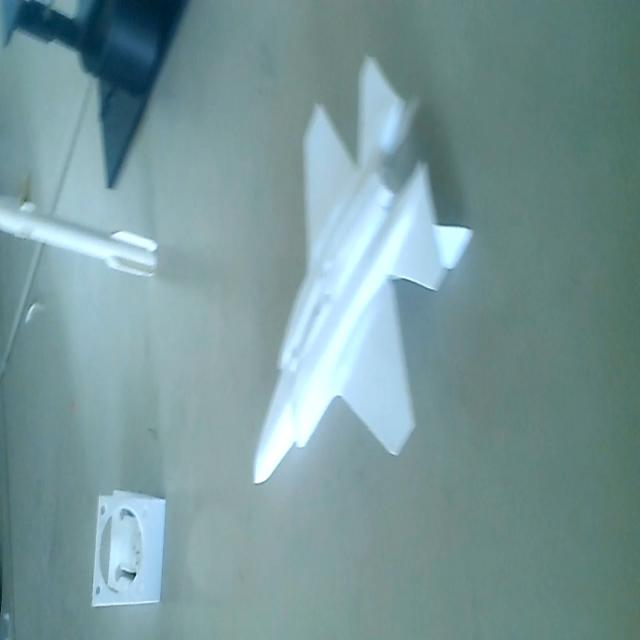Jet: (247, 52, 475, 500)
Rocket: (1, 162, 161, 300)
